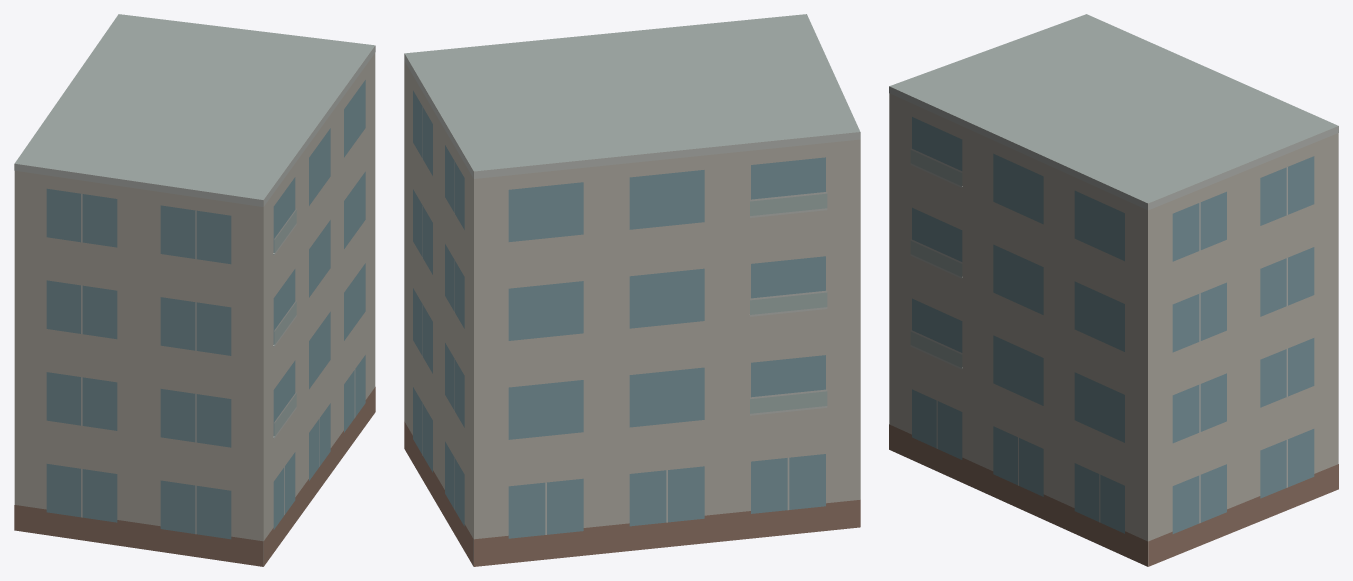
Rendered from survey-upis-33016341.glb.
3 views of the same model, side by side, from view 1: azimuth 30°, elevation 25°; view 2: azimuth 150°, elevation 25°; view 3: azimuth 270°, elevation 25° (orthographic). The views are drawn at different scales.
Visible parts, largest first — view 1: survey-upis-33016341.tmp; view 2: survey-upis-33016341.tmp; view 3: survey-upis-33016341.tmp.
Part boxes in pixels (x1,y1,x2,y2): survey-upis-33016341.tmp: (14,14,375,566); survey-upis-33016341.tmp: (404,14,860,566); survey-upis-33016341.tmp: (889,14,1338,566).
Size of the model in its own units: 14.33 by 12.8 by 14.36.
